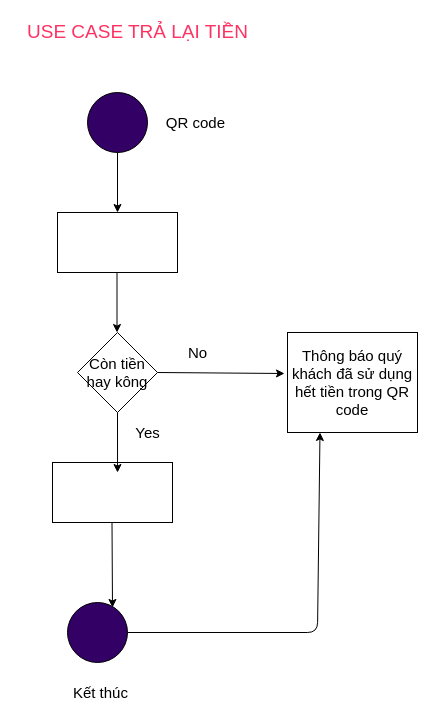
The diagram is 435 pixels wide and 719 high, and some of its shapes have lost their labels. Each missing label, with the centre of its shape:
Kiểm tra dịch vụ và số tiền còn thừa: point (117, 242)
Trả lại tiền thừa: point (112, 492)
